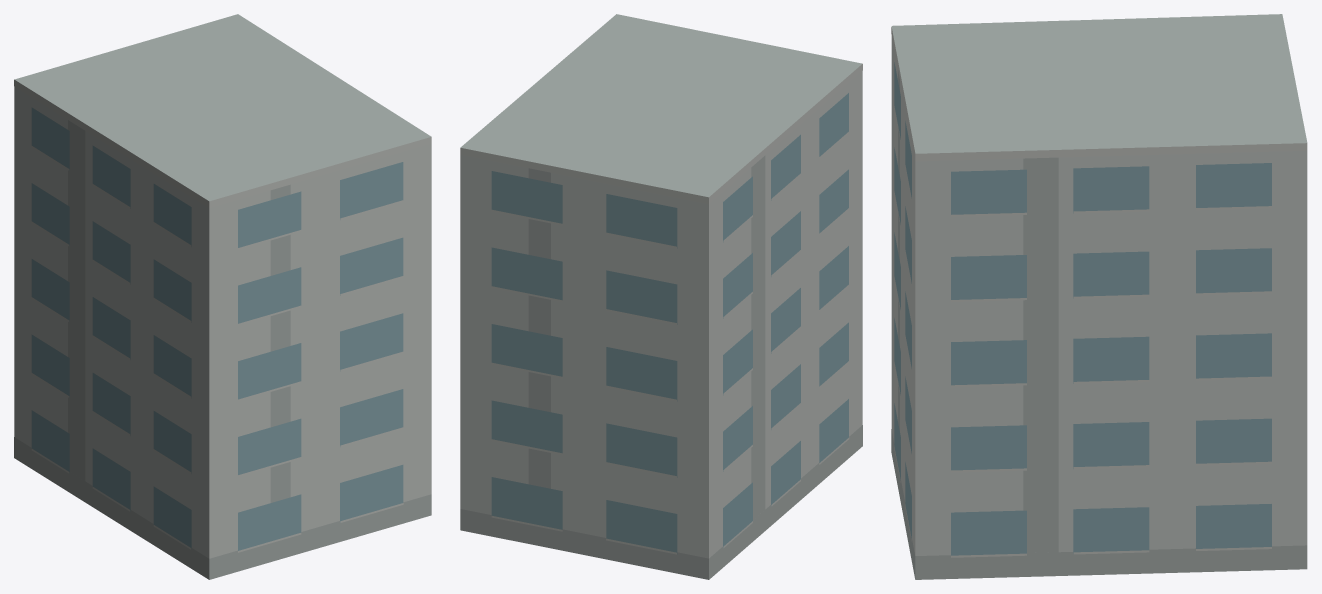
File: survey-upis-32750106.glb
3 renders of one model, left to right at view 1: azimuth 30°, elevation 25°; view 2: azimuth 150°, elevation 25°; view 3: azimuth 270°, elevation 25°, orthographic. The views are drawn at different scales.
Parts seen in each view (by area): view 1: survey-upis-32750106.tmp; view 2: survey-upis-32750106.tmp; view 3: survey-upis-32750106.tmp.
Part boxes in pixels (x1,y1,x2,y2): survey-upis-32750106.tmp: [14, 14, 431, 579]; survey-upis-32750106.tmp: [460, 14, 862, 579]; survey-upis-32750106.tmp: [891, 14, 1307, 579].
Size of the model in its own units: 9.51 by 13.5 by 11.96.
